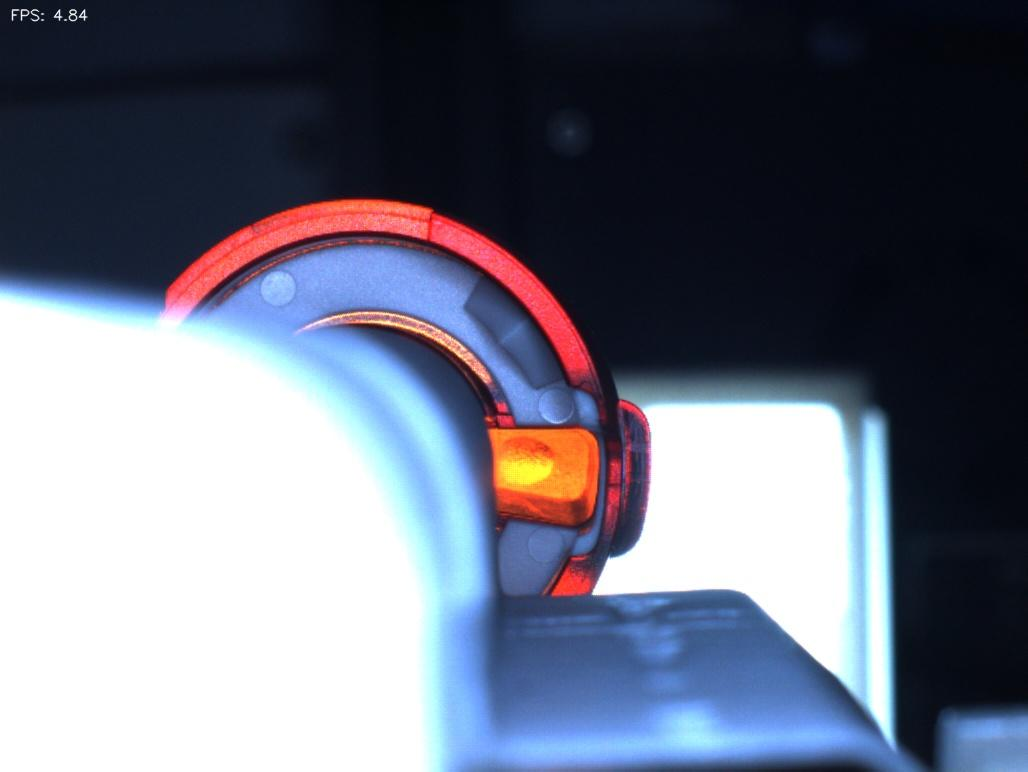Retassure: (483, 426, 571, 504)
